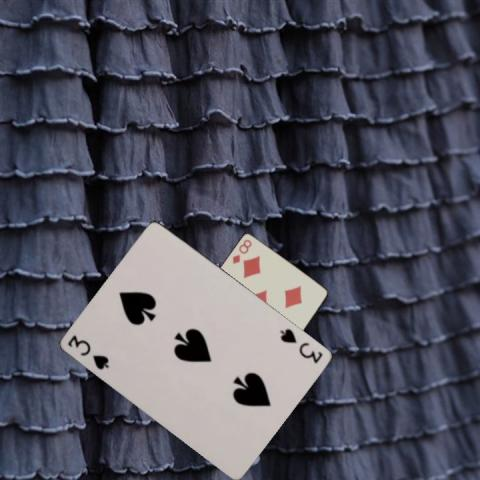3s: (277, 325, 325, 365), (66, 332, 112, 372)
8d: (230, 237, 254, 265)
